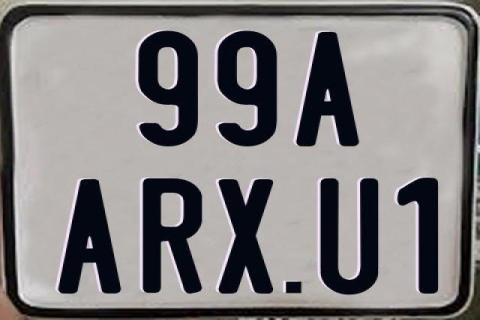0: (215, 29, 276, 149), (138, 30, 198, 146), (394, 176, 436, 295)
A: (293, 30, 360, 144), (56, 177, 120, 292)
R: (142, 177, 203, 292)
U: (317, 178, 378, 300)
X: (215, 178, 273, 294)
